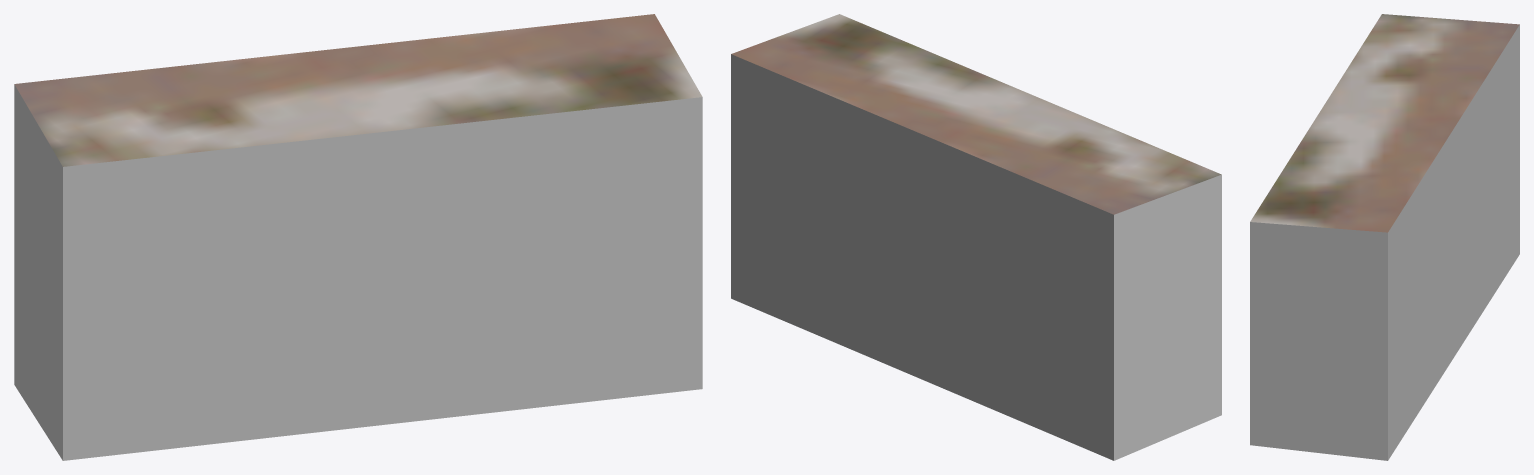
The model's file is DEBW_0010007TI0i.gltf.
3 renders of one model, left to right at view 1: azimuth 30°, elevation 25°; view 2: azimuth 150°, elevation 25°; view 3: azimuth 270°, elevation 25°, orthographic. The views are drawn at different scales.
Parts seen in each view (by area): view 1: Z_UP; view 2: Z_UP; view 3: Z_UP.
Boxes of the visible parts, x1,y1,x2,y2 form: Z_UP: [14, 14, 702, 460]; Z_UP: [731, 14, 1221, 460]; Z_UP: [1250, 14, 1519, 460].
Bounding box in the file's own units: 8.73 × 4.21 × 4.48.
2 materials, 1 textured.
